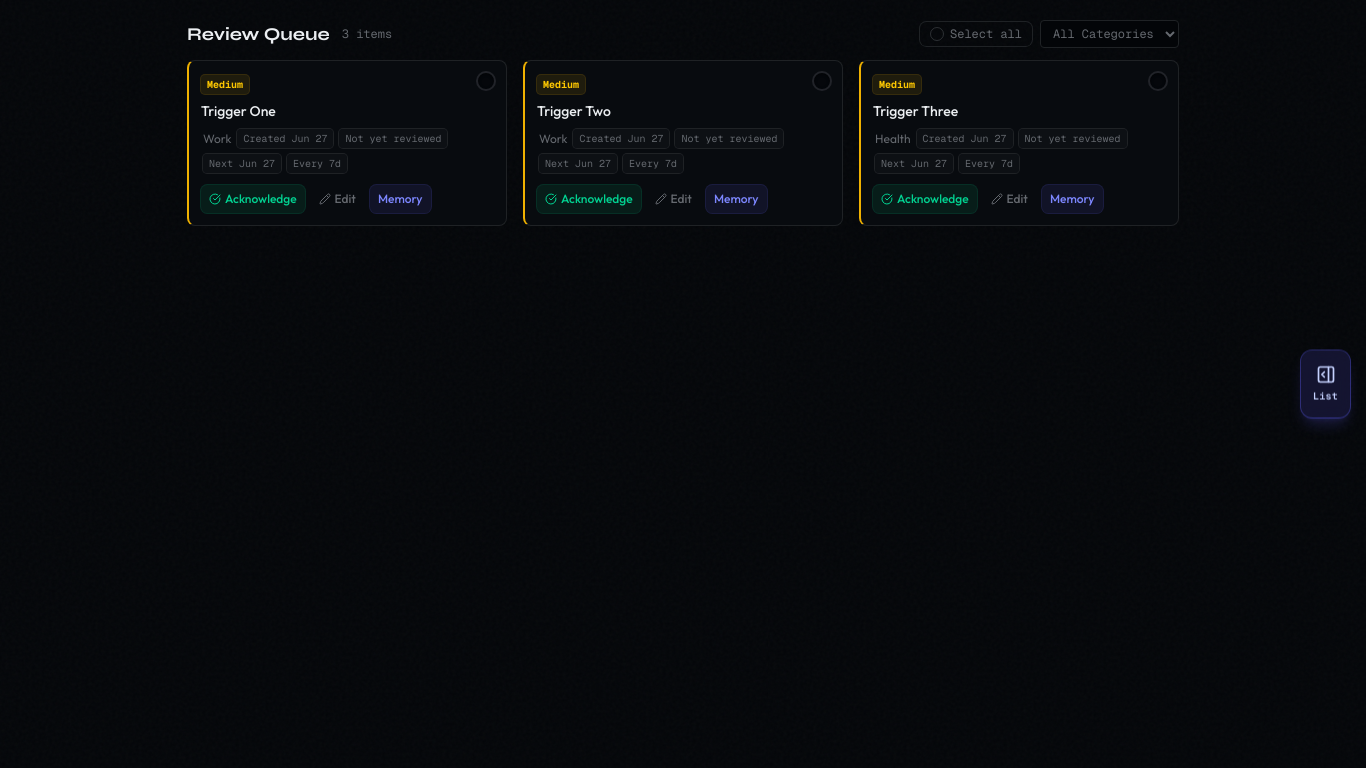
Test case: ReviewQueueClient › Select all selects every visible grid card
Click the button "Select all".
click(976, 34)  # box [920,22,1032,46]
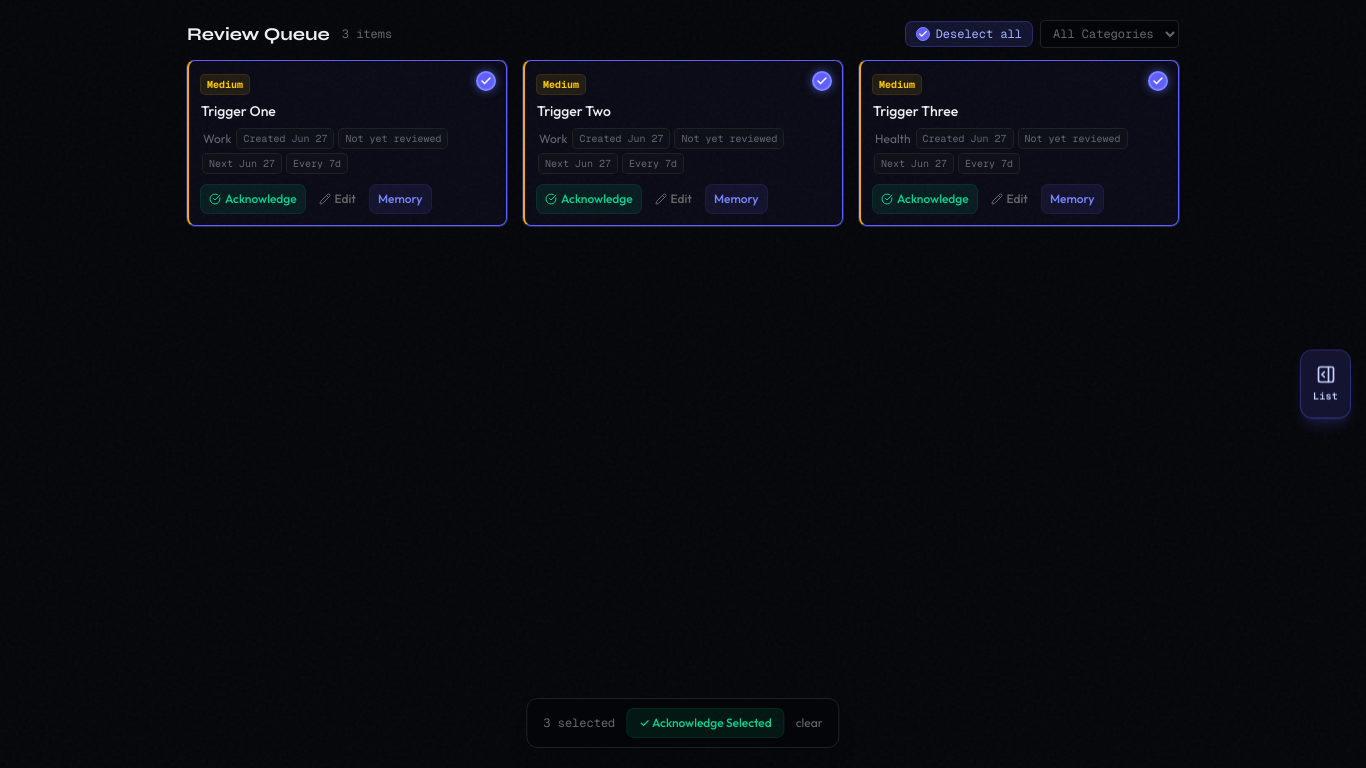
Expected: the text "3 selected" is shown, [543,715,615,731]
